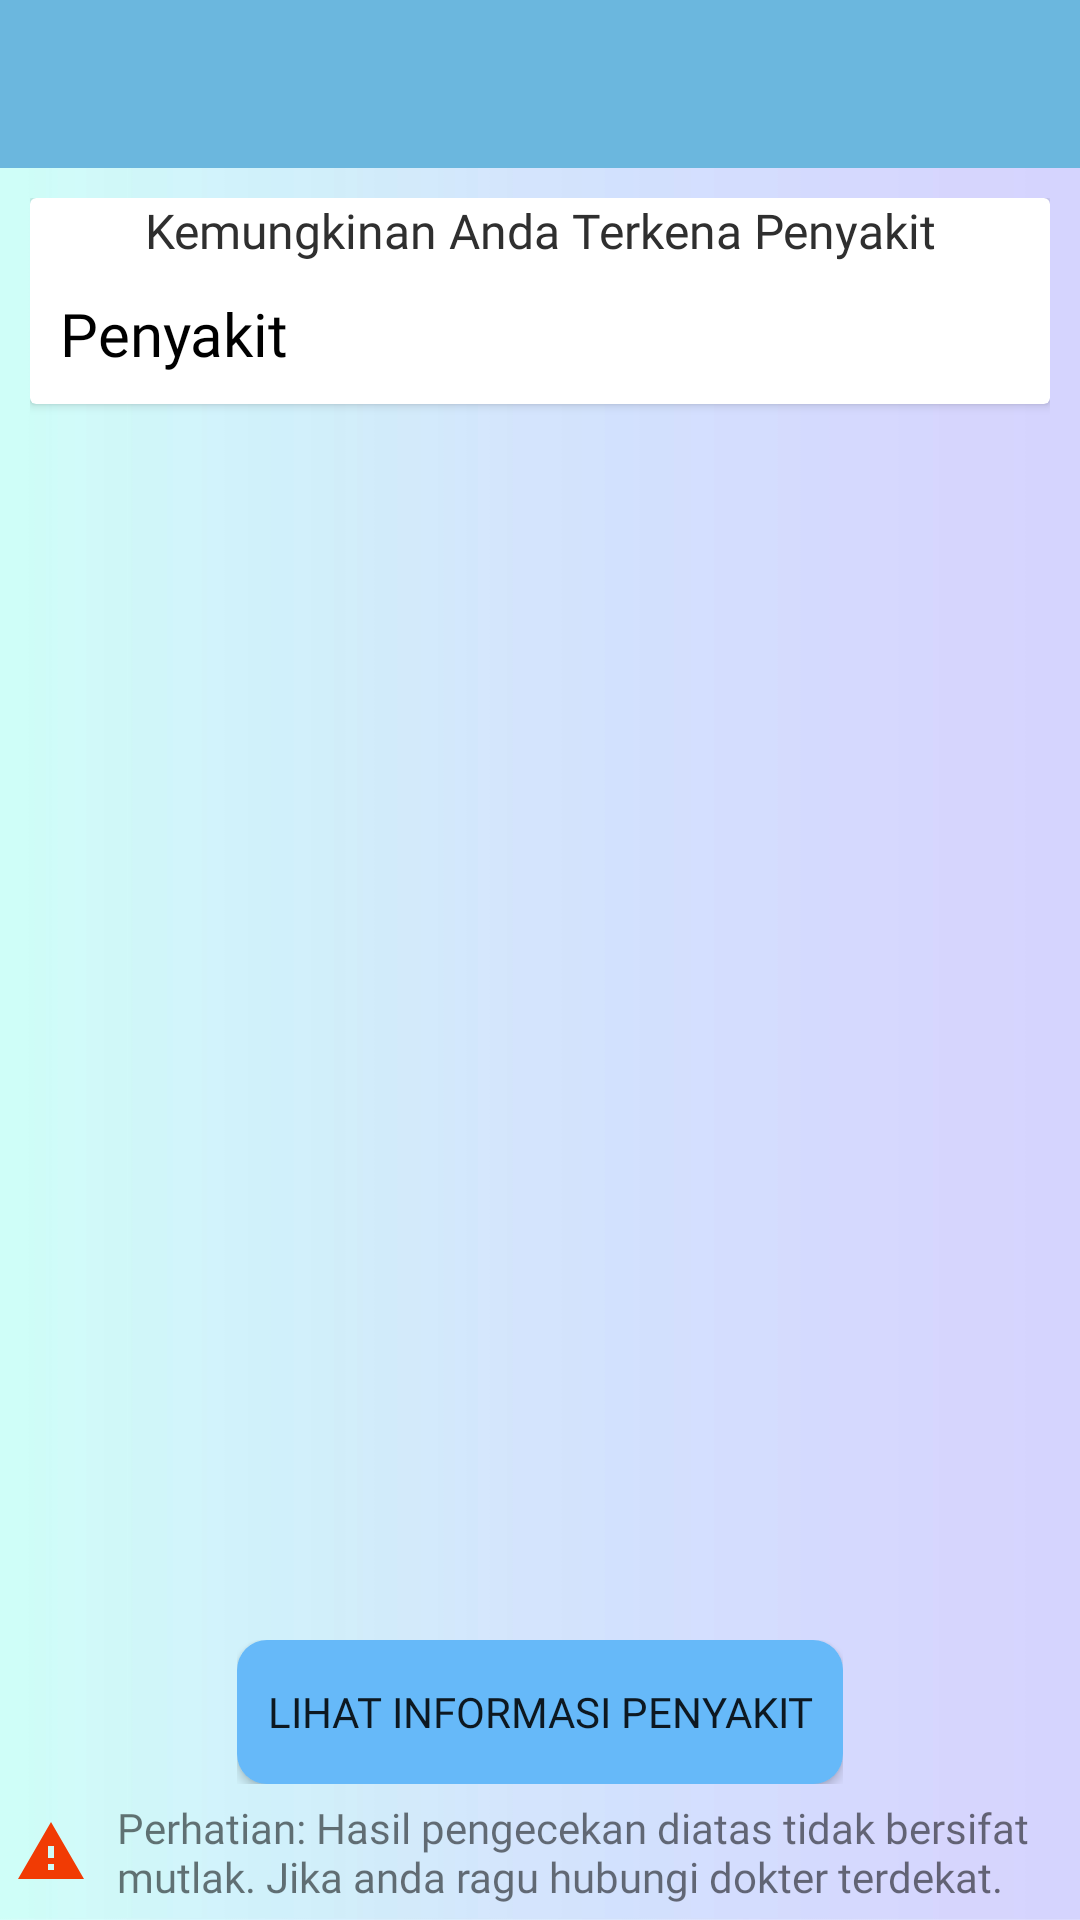

Locate icon controls on the screen. Image size 1080 × 1920, boxes as (x1, y1, x2, y2).
warning: (18, 1822, 84, 1879)
